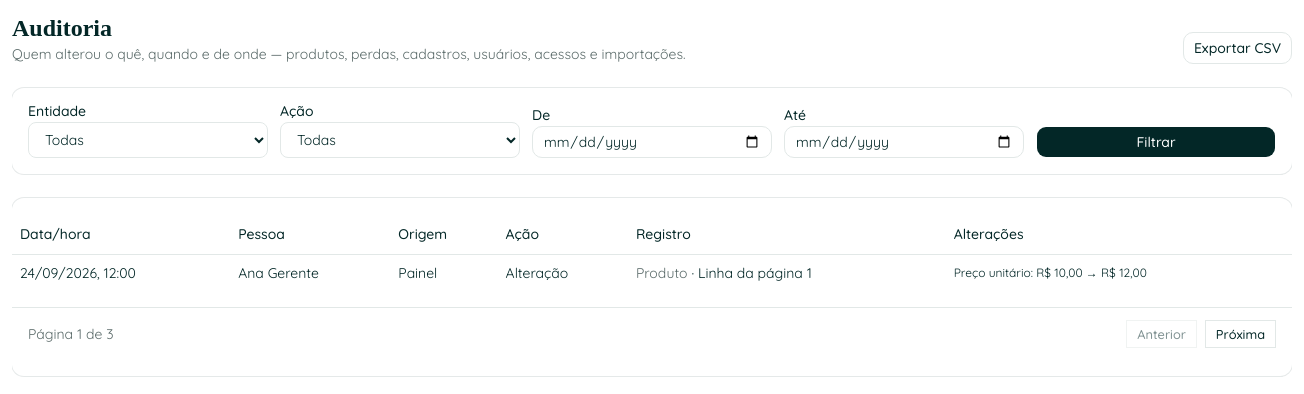
Test: AuditPage › erro ao carregar não deixa na tela as linhas da busca anterior
This screenshot has width=1304, height=394.
Expected: the text "Produto · Linha da página 1" is shown, [628,254,946,290]
Click the button "Próxima".
click(1240, 334)  # box [1205,320,1276,348]
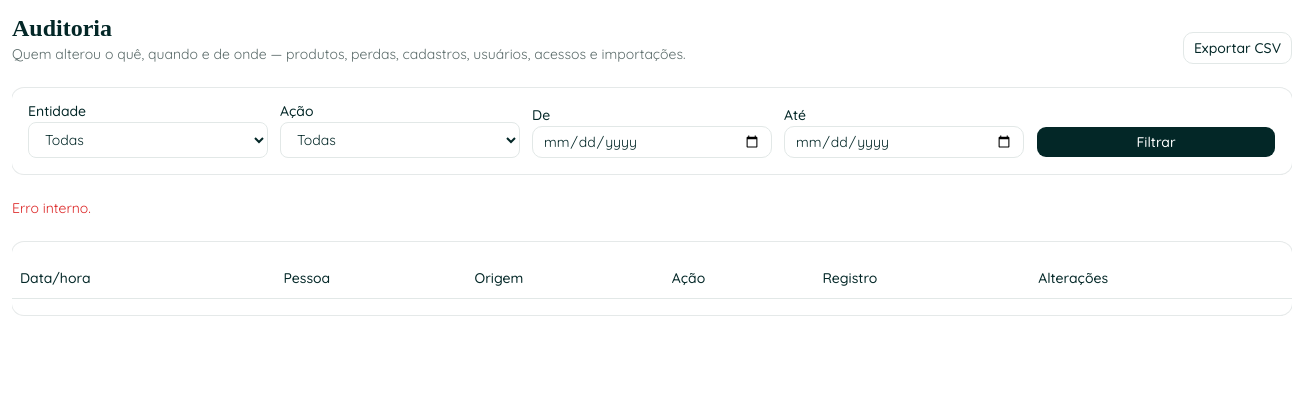
Now the text "Erro interno." is shown, box [12,199,91,217]
Now the text "Linha da página 1" is gone
